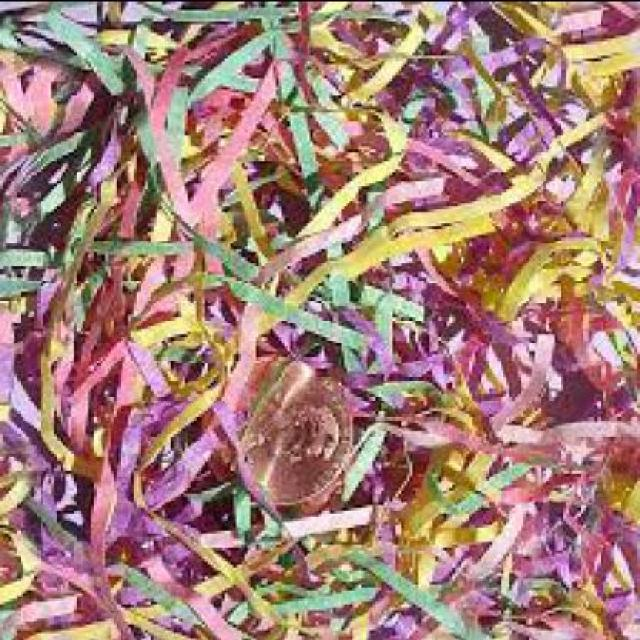METAL: (217, 347, 355, 501)
PAPER: (3, 1, 639, 637), (126, 122, 492, 364), (3, 137, 157, 429), (461, 52, 588, 239), (427, 392, 562, 520)
